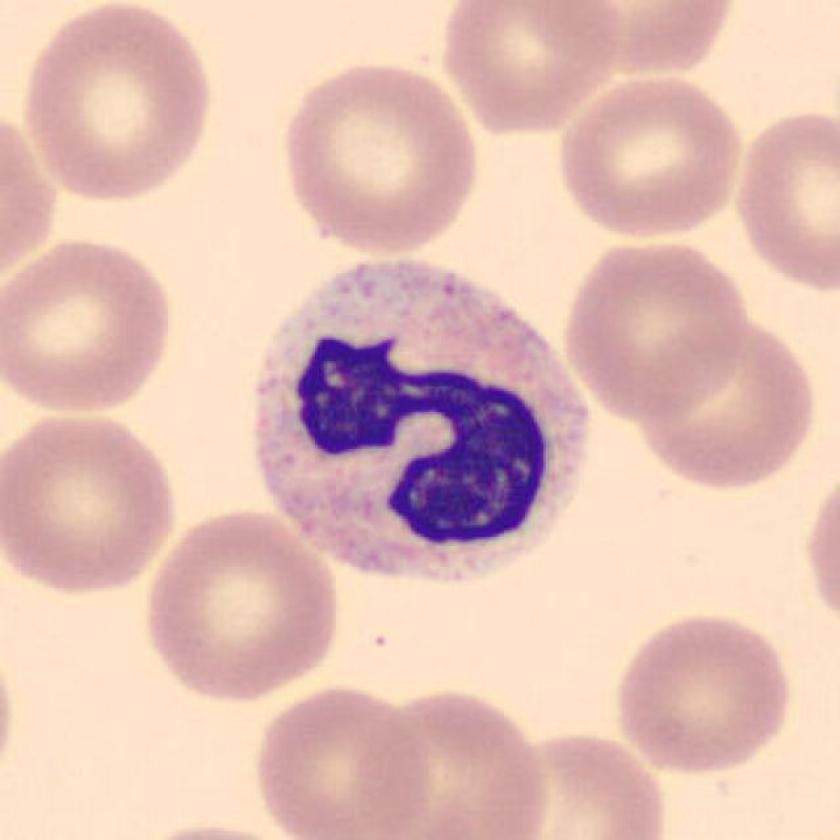neutrophil: (260, 267, 585, 584)
